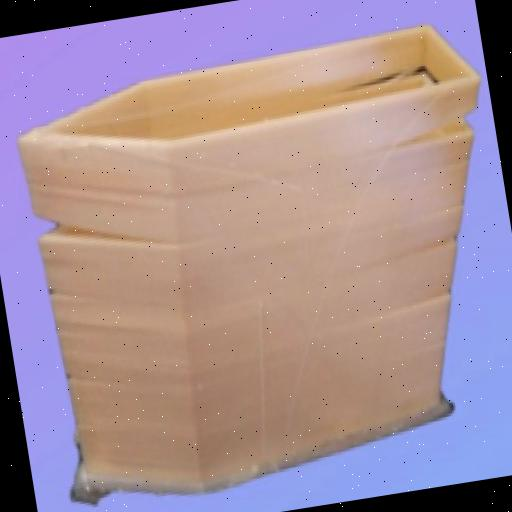cracks: (16, 184, 180, 309), (379, 99, 498, 164), (390, 224, 472, 296)
